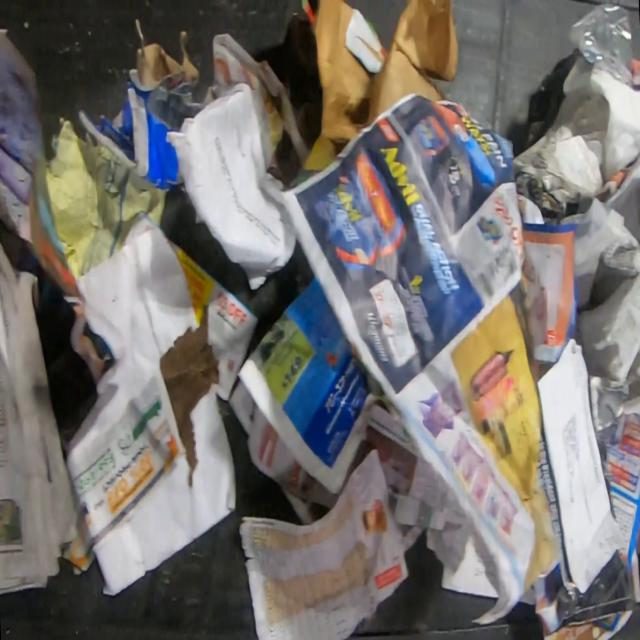cardboard: (300, 0, 462, 174), (77, 29, 202, 192), (596, 393, 640, 610)
soft_plastic: (566, 2, 640, 90)
